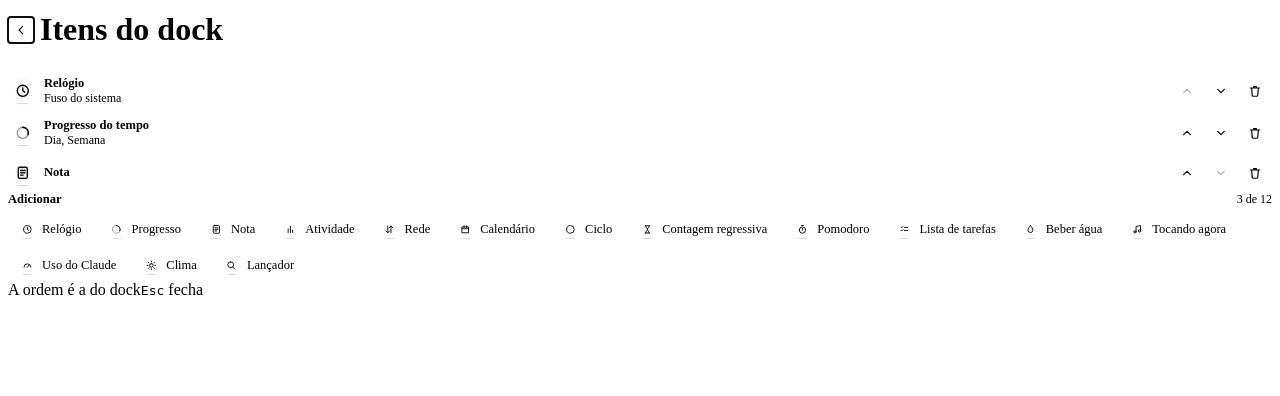
it: DockItems › removing › asks for a note it can't read
This screenshot has width=1280, height=396.
Click the button named "Remover Nota" at (1255, 173), box [1242, 160, 1268, 186]
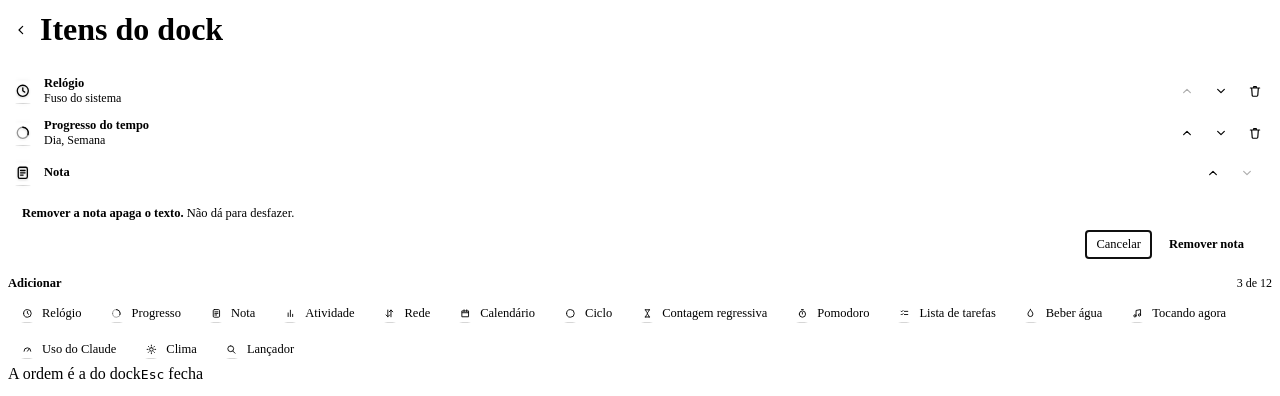
Result: the message shows "Remover a nota apaga o texto." at [22, 206, 184, 220]
